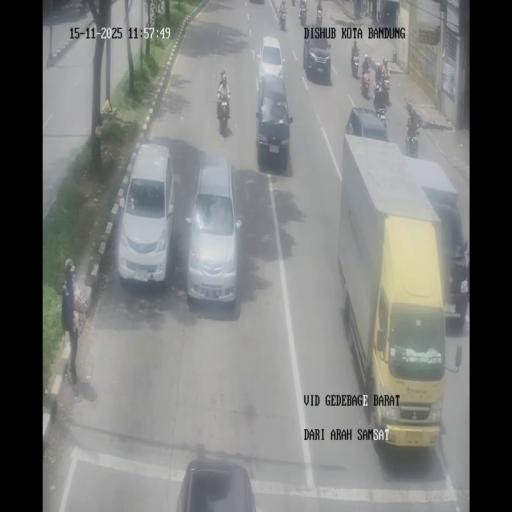3: (339, 135, 449, 444), (426, 197, 470, 324)
car: (185, 154, 241, 304), (117, 142, 175, 286), (175, 456, 258, 510), (255, 74, 292, 170), (303, 34, 331, 84), (258, 36, 284, 86)
truck: (216, 91, 230, 134), (374, 95, 388, 128), (406, 130, 419, 157), (360, 70, 371, 98), (350, 48, 360, 78), (362, 52, 370, 76), (278, 8, 286, 31), (299, 4, 307, 26), (375, 59, 382, 83), (316, 7, 323, 26), (384, 77, 390, 95), (361, 0, 367, 16), (376, 8, 382, 22), (280, 0, 286, 10), (291, 0, 296, 7)
